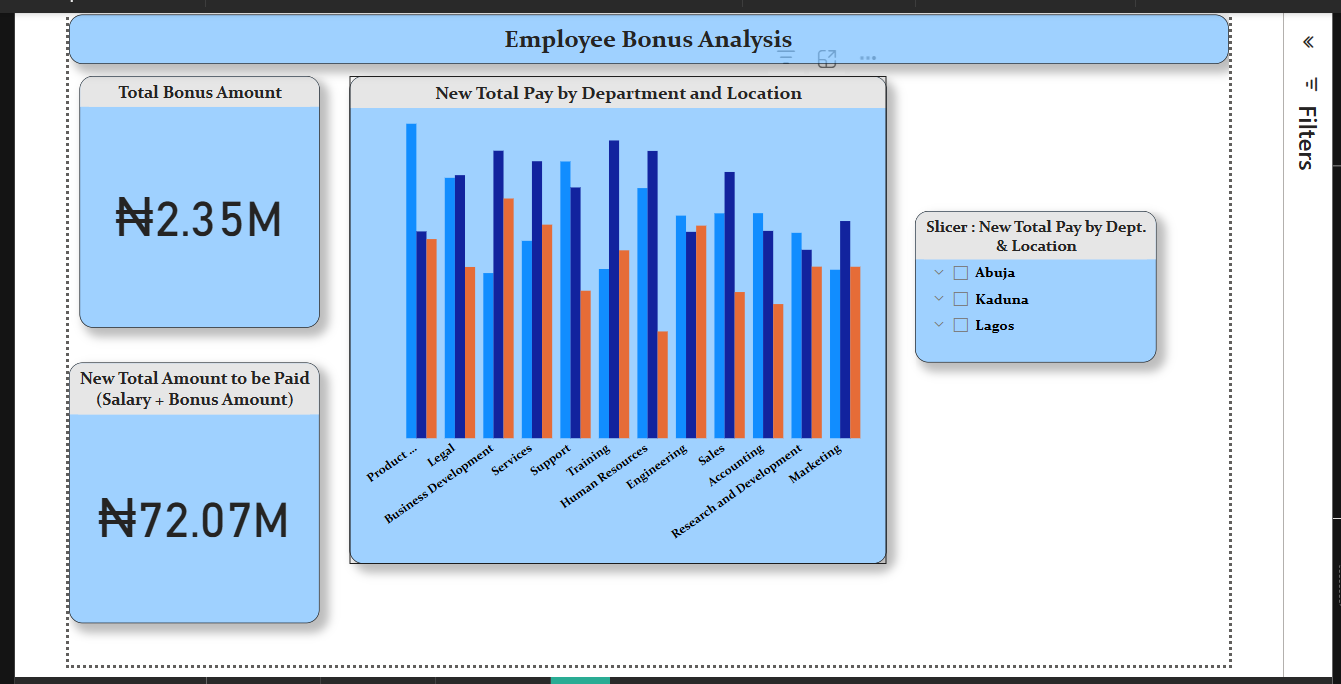

The dashboard page shown, as its layout file describes it:
{"tool":"powerbi","page":{"name":"Page 3","canvas":[1280,720],"ordinal":2},"visuals":[{"type":"clusteredColumnChart","title":"New Total Pay by Department and Location","fields":{"Category":["Merged Tables.Department"],"Y":["Sum(Merged Tables.New Total Pay)"],"Series":["Merged Tables.Location"]},"box":[309.8,69.6,593,538.4],"z":0},{"type":"card","title":"New Total Amount to be Paid (Salary + Bonus Amount)","fields":{"Values":["Sum(Merged Tables.New Total Pay)"]},"box":[0,386,276.6,288.2],"z":1000},{"type":"card","title":"Total Bonus Amount","fields":{"Values":["Sum(Merged Tables.Bonus Amount)"]},"box":[11.6,69.6,265,278.3],"z":2000},{"type":"slicer","title":"Slicer : New Total Pay by Dept. & Location","fields":{"Values":["Merged Tables.Location","Merged Tables.Department"]},"box":[934.3,218.7,266.7,167.3],"z":3000},{"type":"textbox","box":[0,1.7,1280.5,54.7],"z":4000}]}

Visuals, with their boxes on the page's 1280x720 design canvas (x1, y1, x2, y2). These are canvas units, not pixel positions in the 1341x684 screenshot, which may show the page scaled, cropped or inside an application window:
"New Total Pay by Department and Location" clusteredColumnChart: pyautogui.locateOnScreen(310, 70, 903, 608)
"New Total Amount to be Paid (Salary + Bonus Amount)" card: pyautogui.locateOnScreen(0, 386, 277, 674)
"Total Bonus Amount" card: pyautogui.locateOnScreen(12, 70, 277, 348)
"Slicer : New Total Pay by Dept. & Location" slicer: pyautogui.locateOnScreen(934, 219, 1201, 386)
textbox: pyautogui.locateOnScreen(0, 2, 1280, 56)
